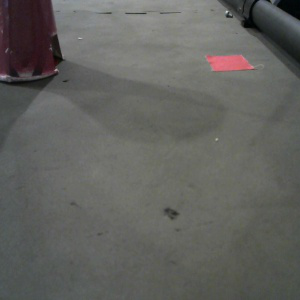middle: (1, 1, 66, 82)
